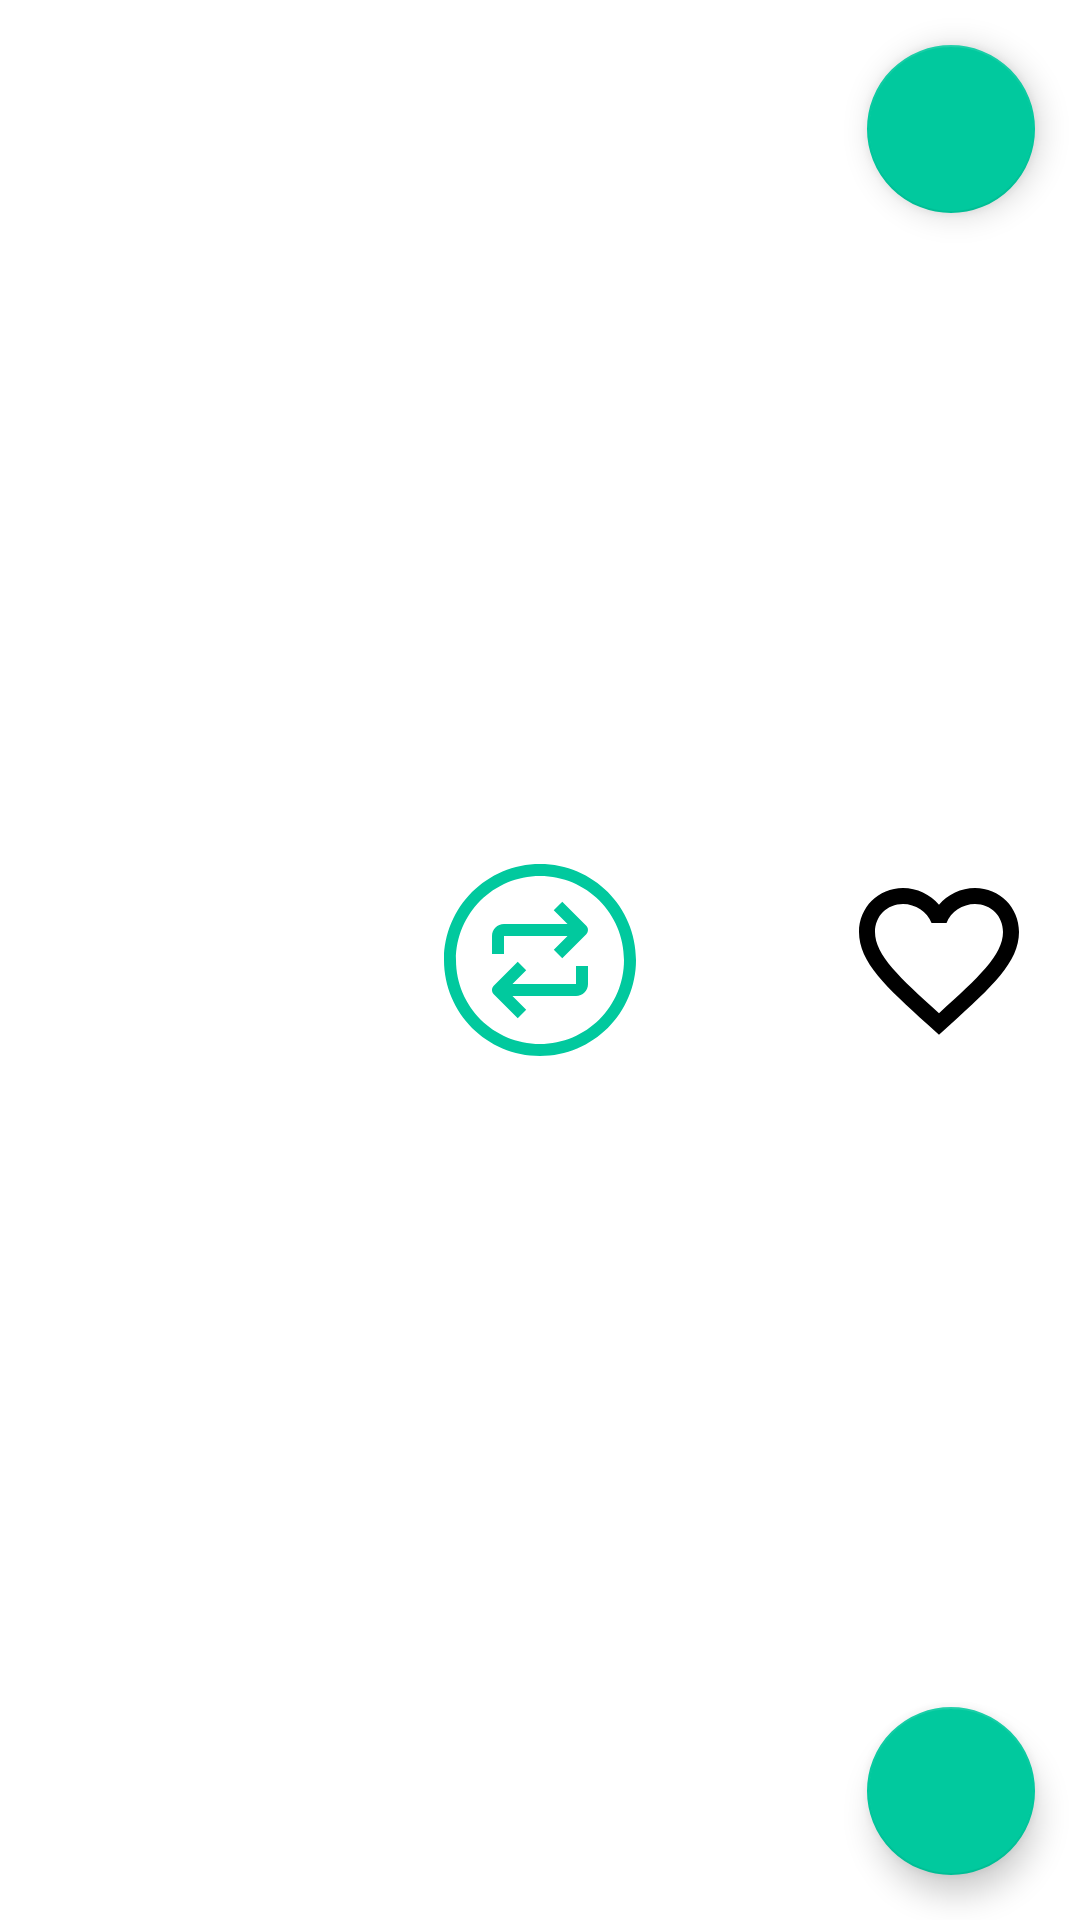

Named icons in this screenshot (1080w x 1920h) and their bounding boxes, BBox(x1, y1, x2, y2):
favorite border: BBox(859, 888, 1019, 1035)
